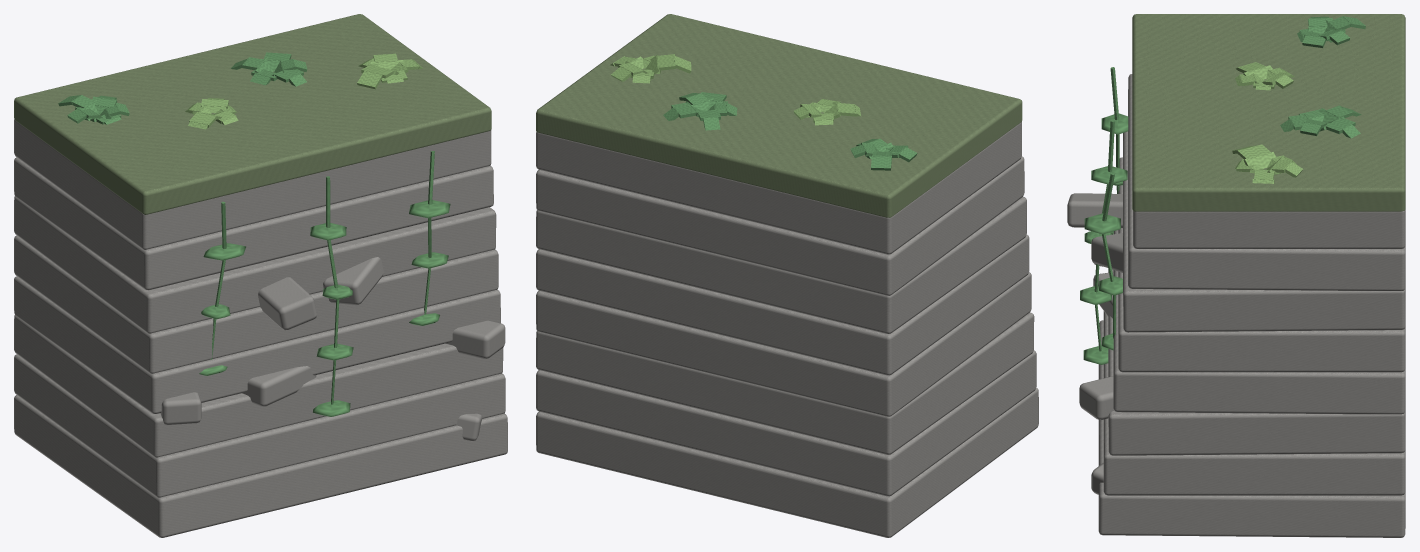
Rendered from jungle-temple-and-stone-city-gorge-edge-block-c7dbfaeb__36155.glb.
The picture shows the model from 3 angles, left to right: view 1: azimuth 30°, elevation 25°; view 2: azimuth 150°, elevation 25°; view 3: azimuth 270°, elevation 25°; orthographic projection. The views are drawn at different scales.
Visible parts, largest first — view 1: gorge-edge-block; view 2: gorge-edge-block; view 3: gorge-edge-block.
Boxes of the visible parts, bbox=[...] form: gorge-edge-block: bbox=[14, 14, 507, 537]; gorge-edge-block: bbox=[536, 14, 1038, 537]; gorge-edge-block: bbox=[1067, 14, 1405, 537].
Size of the model in its own units: 3 by 2.86 by 2.43.
4 materials, 4 textured.
